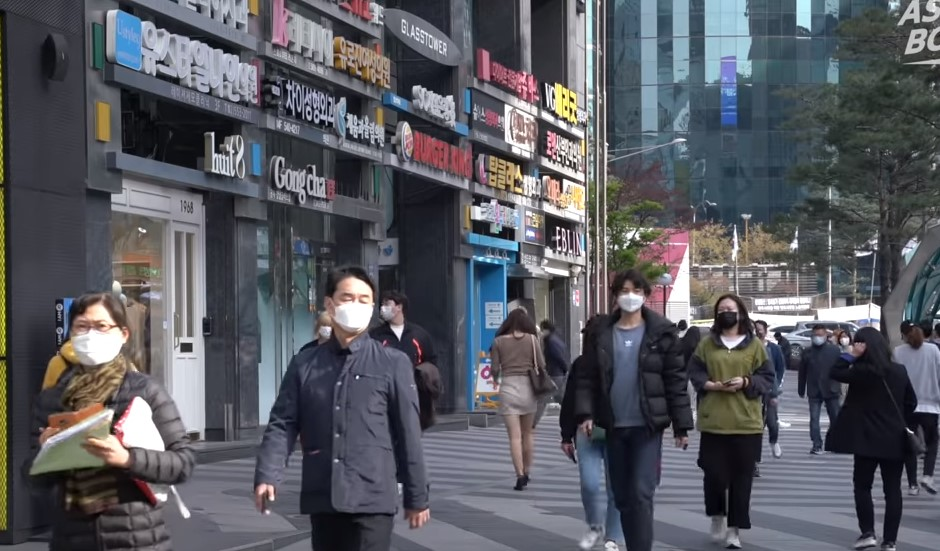face_with_mask: (67, 292, 130, 367), (323, 266, 375, 335), (612, 271, 648, 313), (377, 288, 405, 324), (714, 295, 740, 329), (804, 324, 829, 348)
